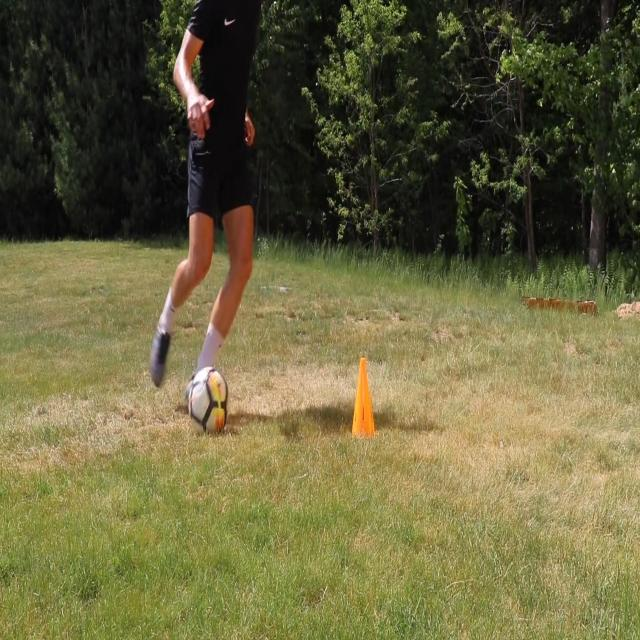Soccer Ball: (189, 367, 229, 441)
